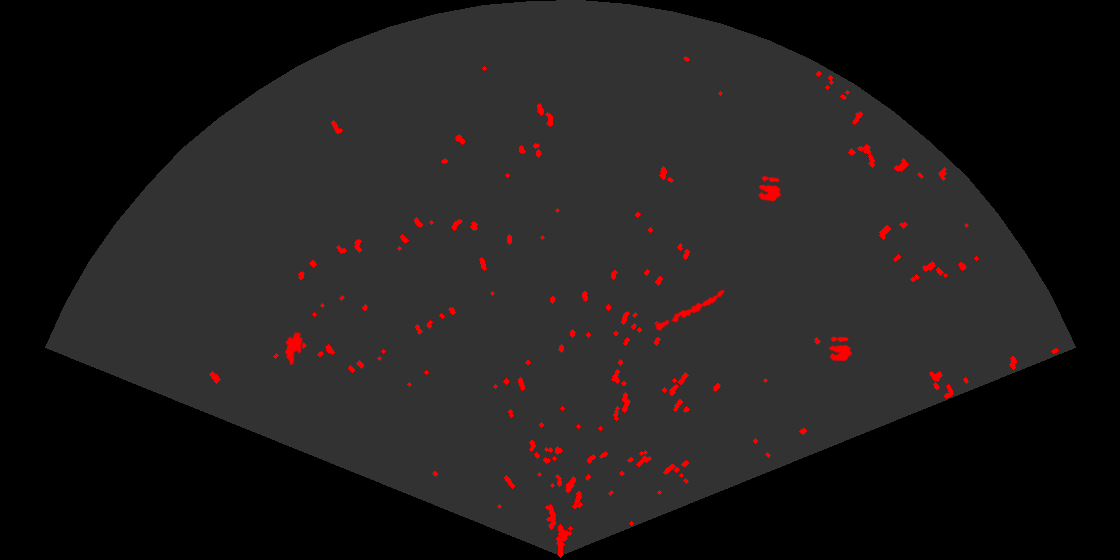AUV: (283, 330, 305, 367)
ball: (756, 174, 783, 203), (827, 335, 853, 362)
chain: (651, 288, 726, 333)
